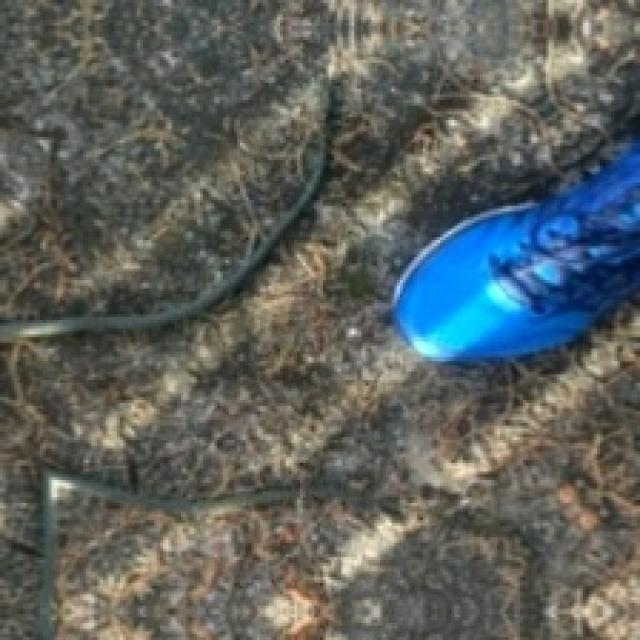paradise tree snake: (391, 137, 637, 357)
